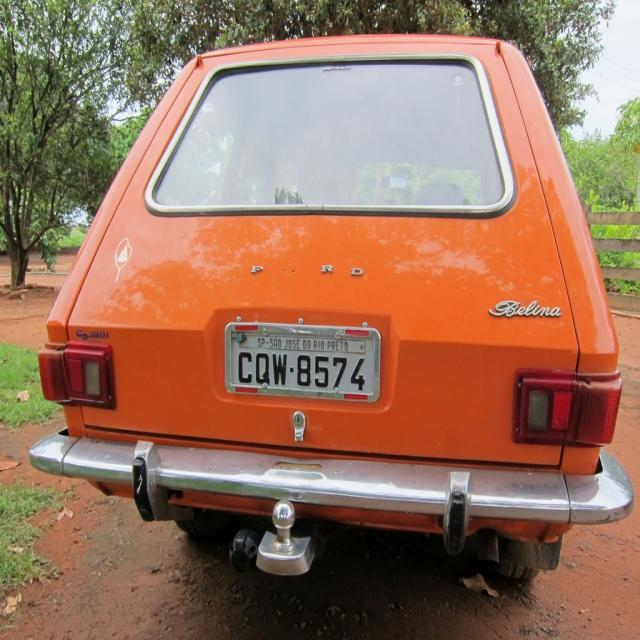car: (28, 32, 635, 588)
